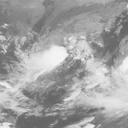cyclone: (30, 44, 68, 73)
